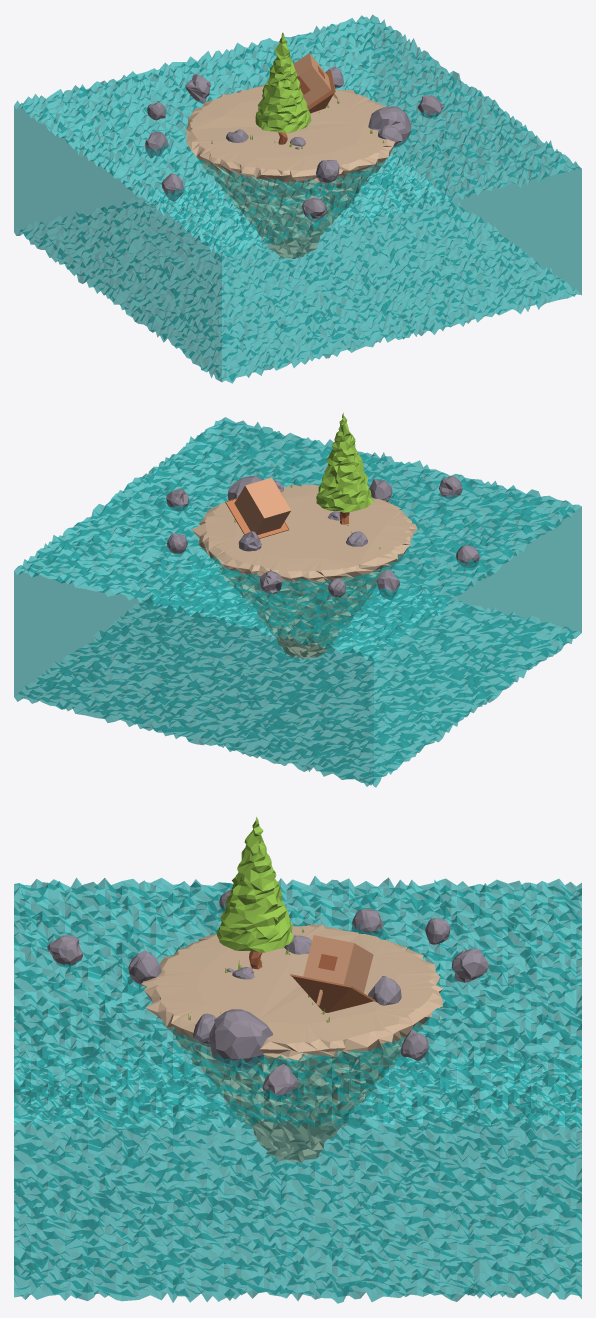
3 renders of one model, top to bottom at view 1: azimuth 30°, elevation 25°; view 2: azimuth 150°, elevation 25°; view 3: azimuth 270°, elevation 25°, orthographic. The views are drawn at different scales.
Visible parts, largest first — view 1: Ocean001, Cone002, Cone001, Box001, GeoSphere002, GeoSphere013; view 2: Ocean001, Cone002, Cone001, Box001, GeoSphere010, Pyramid004; view 3: Ocean001, Cone002, Cone001, GeoSphere002, Box001, Pyramid004, GeoSphere013, GeoSphere014, GeoSphere005, GeoSphere009, GeoSphere010, GeoSphere008 (+1 smaller).
Part boxes in pixels (x1,y1,x2,y2): Ocean001: (14, 14, 581, 383); Cone002: (186, 84, 395, 258); Cone001: (255, 32, 311, 133); Box001: (293, 53, 330, 106); GeoSphere002: (368, 106, 411, 147); GeoSphere013: (185, 74, 211, 103); Ocean001: (14, 417, 581, 787); Cone002: (192, 484, 417, 659); Cone001: (316, 413, 373, 512); Box001: (234, 477, 290, 534); GeoSphere010: (376, 569, 399, 599); Pyramid004: (225, 498, 289, 538); Ocean001: (14, 876, 581, 1303); Cone002: (141, 924, 443, 1163); Cone001: (216, 817, 293, 952); GeoSphere002: (209, 1009, 272, 1070); Box001: (303, 935, 373, 992); Pyramid004: (290, 974, 375, 1012); GeoSphere013: (451, 948, 488, 982); GeoSphere014: (262, 1064, 297, 1099); GeoSphere005: (47, 935, 82, 966); GeoSphere009: (128, 950, 161, 986); GeoSphere010: (351, 908, 383, 937); GeoSphere008: (368, 976, 401, 1005).
Bounding box in the file's own units: 1.49 × 1.02 × 1.49.
